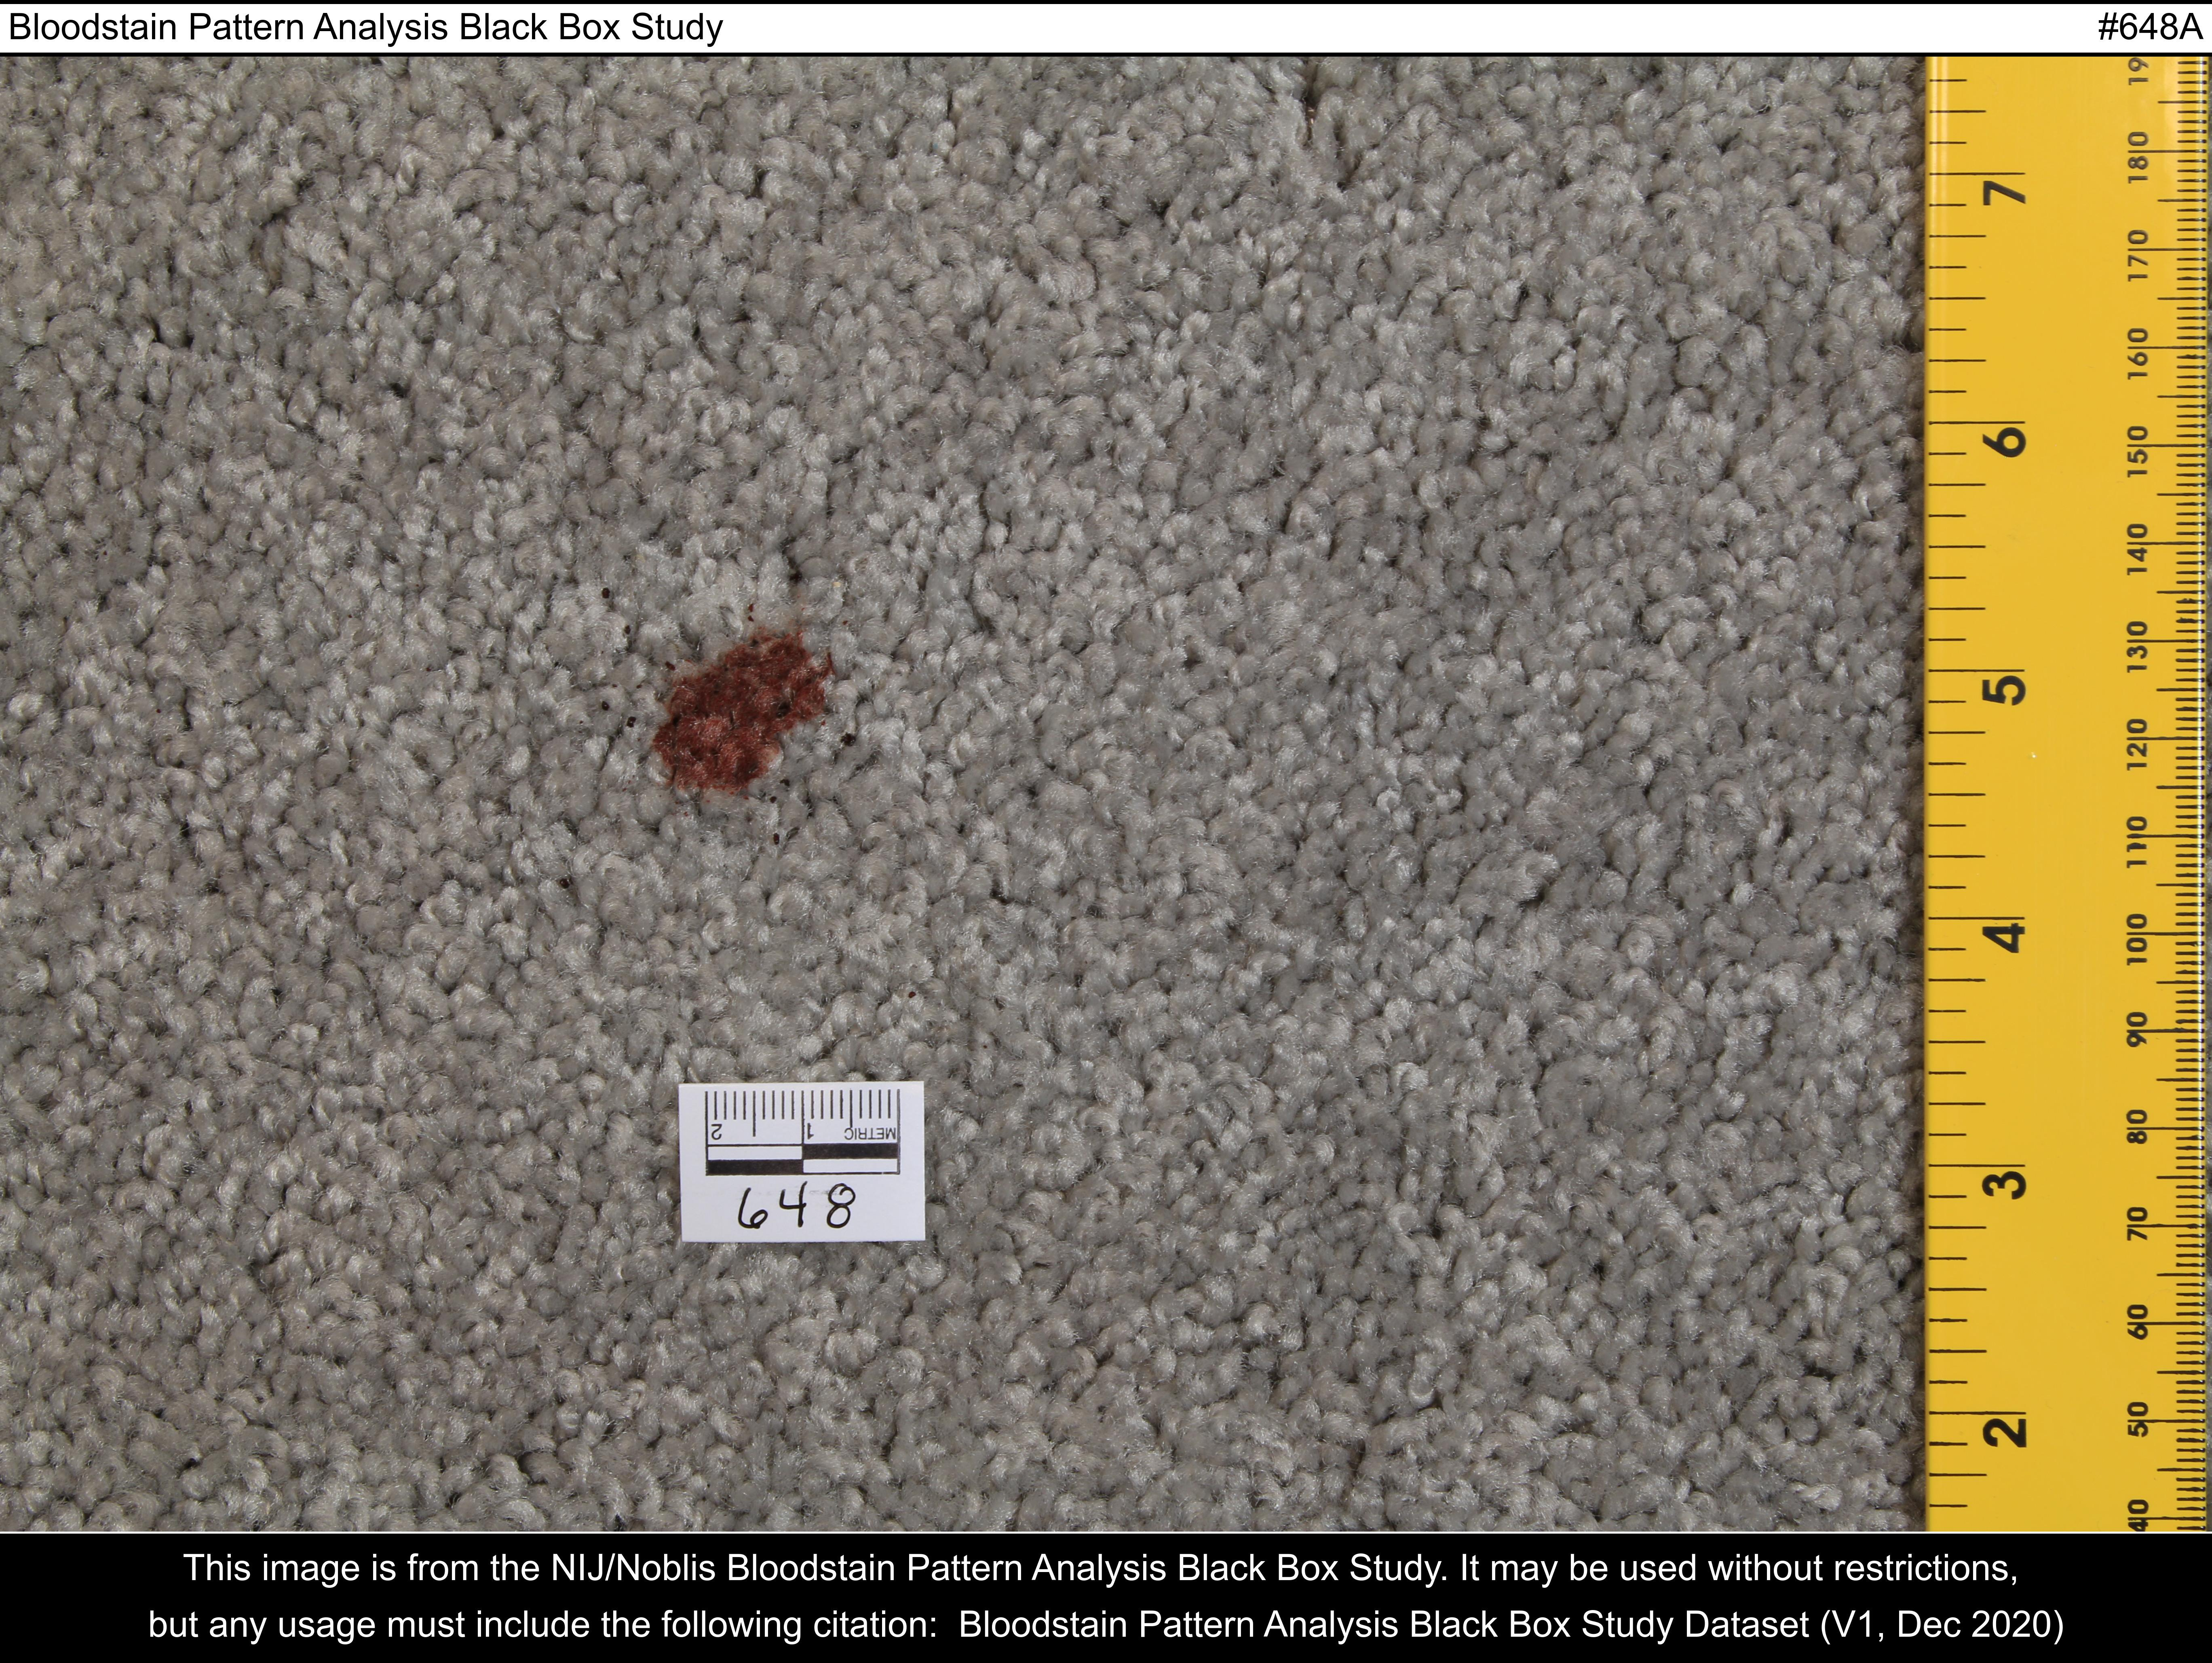Passive: (534, 535, 938, 877)
